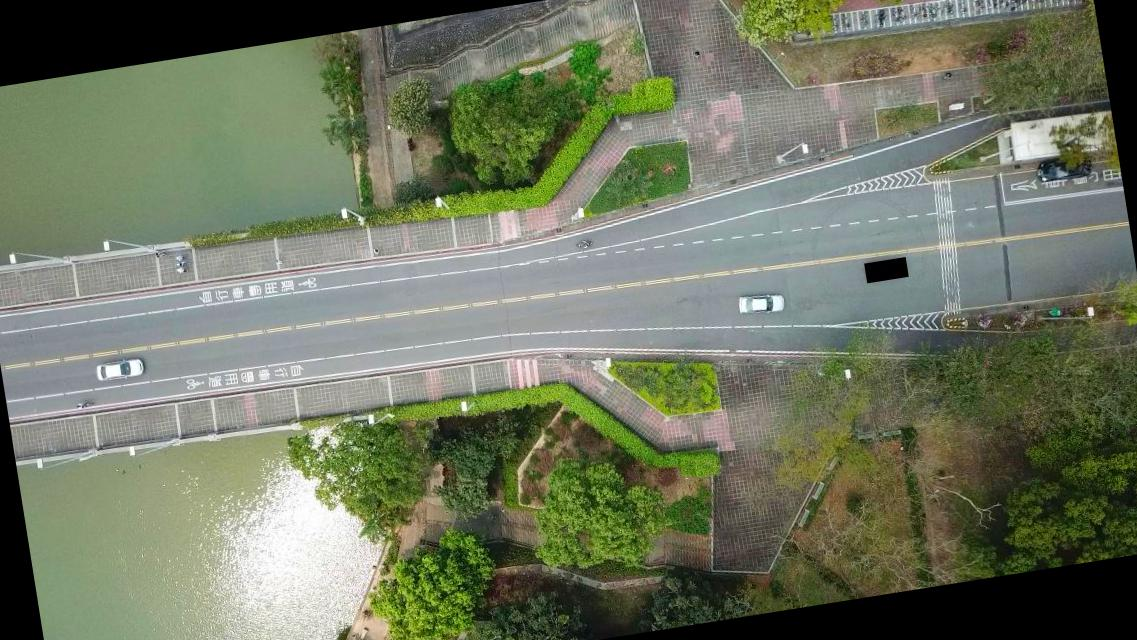vehicle: (1035, 153, 1093, 185), (95, 356, 146, 383), (738, 290, 786, 318)
